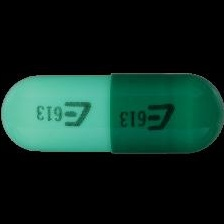58118-0025: (0, 0, 224, 224)
